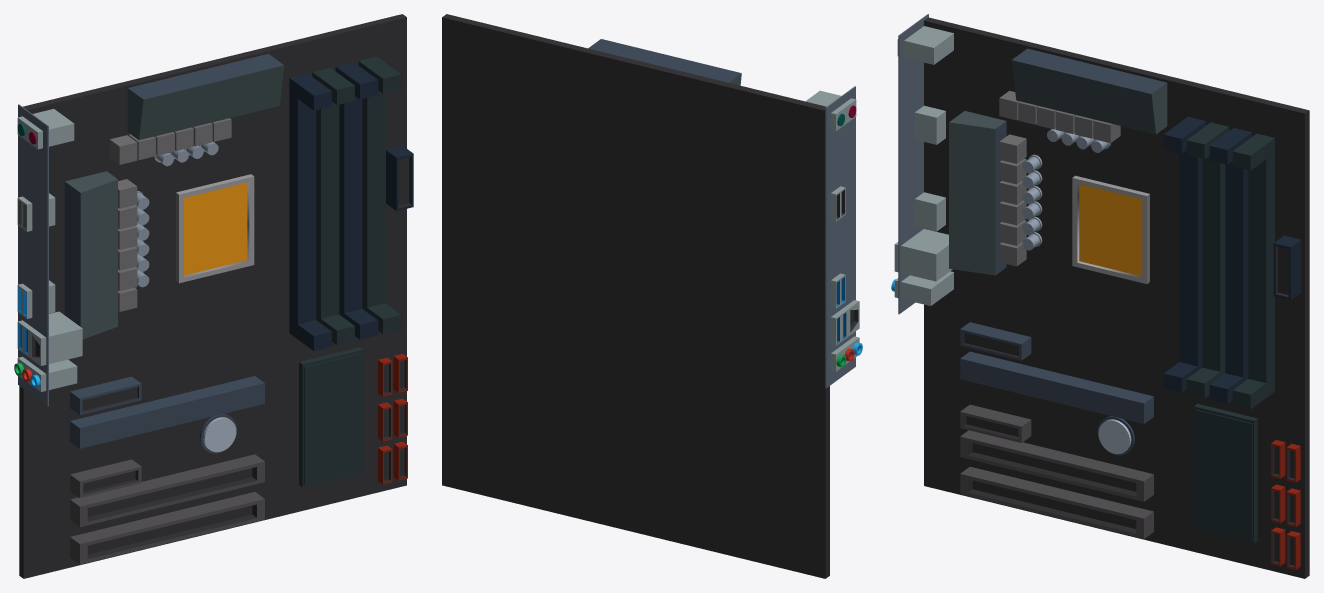
File: Motherboard.obj
The picture shows the model from 3 angles, left to right: view 1: azimuth 30°, elevation 25°; view 2: azimuth 150°, elevation 25°; view 3: azimuth 330°, elevation 25°; orthographic projection.
Visible parts, largest first — view 1: Motherboard_Cylinder.070; view 2: Motherboard_Cylinder.070; view 3: Motherboard_Cylinder.070.
Boxes of the visible parts, box(x1,y1,x2,y2) form: Motherboard_Cylinder.070: box(14, 14, 413, 578); Motherboard_Cylinder.070: box(442, 14, 862, 578); Motherboard_Cylinder.070: box(891, 14, 1309, 578).
Size of the model in its own units: 6.15 by 7.04 by 0.8089.
1 material, 1 textured.
